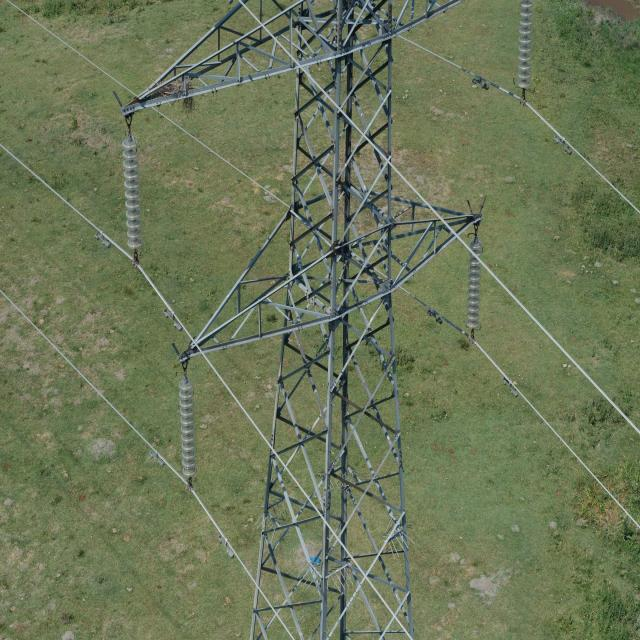direk: (247, 2, 415, 640)
